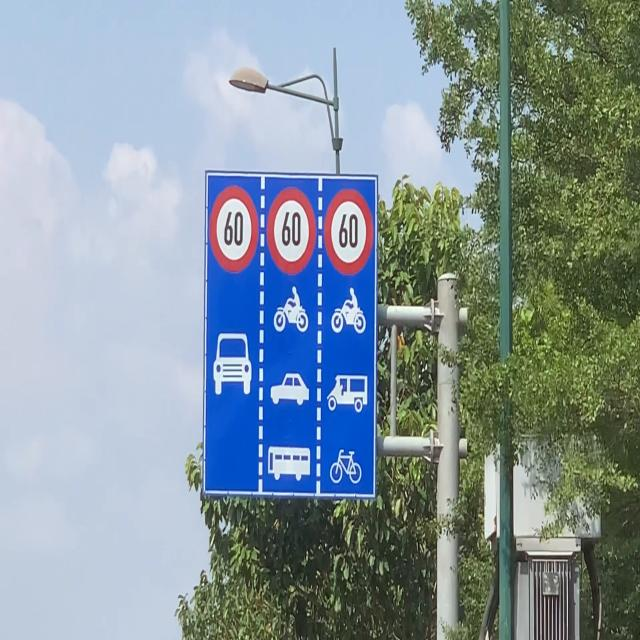Toc do toi da: (209, 185, 259, 273), (267, 186, 316, 275), (324, 189, 373, 275)
